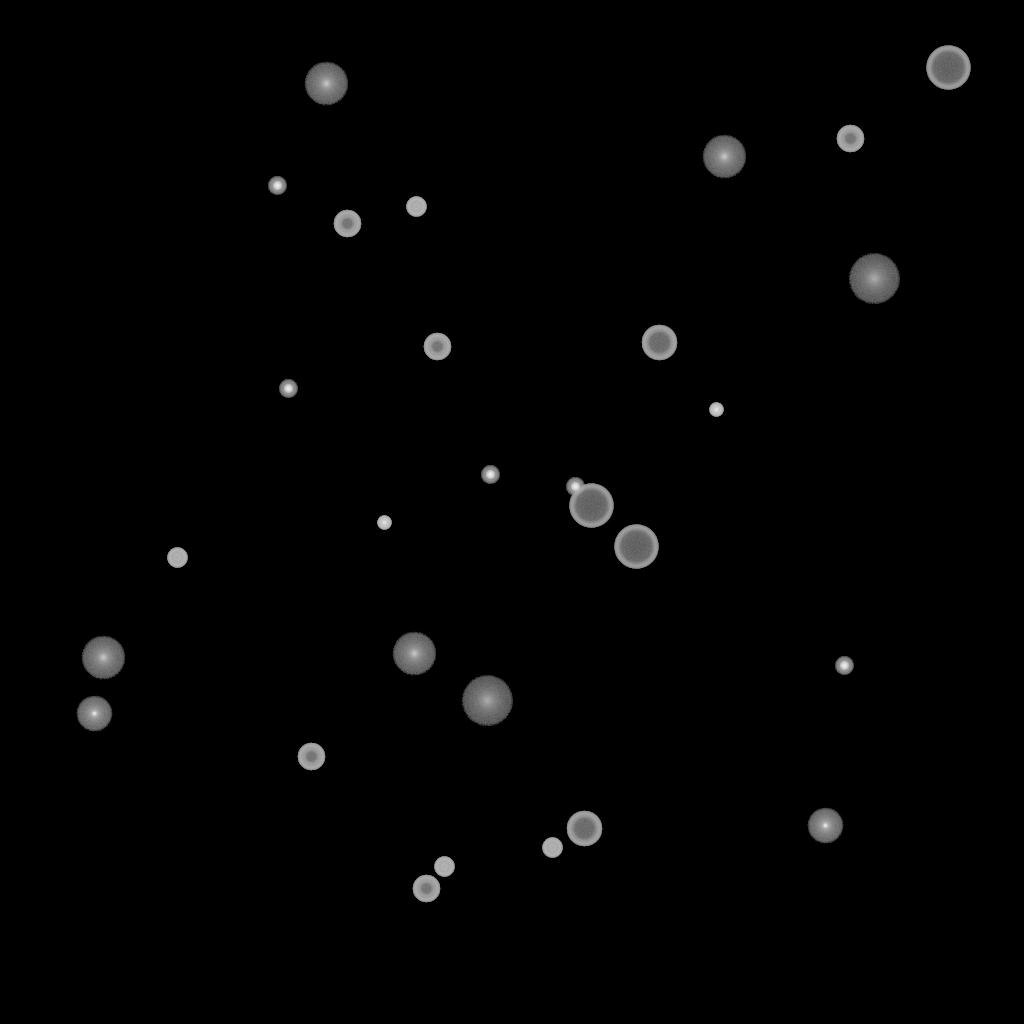depth:-20: (481, 466, 499, 484), (268, 177, 286, 195), (835, 657, 853, 675), (566, 478, 584, 496), (279, 380, 297, 398)
depth:-30: (377, 516, 391, 530), (709, 403, 723, 417)
depth:-40: (167, 548, 187, 568), (406, 197, 426, 217), (542, 838, 562, 858), (434, 857, 454, 877)
depth:-50: (412, 875, 440, 903), (297, 743, 325, 771), (423, 333, 451, 361), (333, 210, 361, 238), (836, 125, 864, 153)
depth:-60: (566, 811, 602, 847), (641, 325, 677, 361)
depth:-70: (614, 525, 658, 569), (569, 484, 613, 528), (926, 46, 970, 90)
depth:0: (76, 696, 112, 732), (807, 808, 843, 844)
depth:10: (702, 135, 746, 179), (81, 636, 125, 680), (304, 62, 348, 106), (392, 632, 436, 676)
depth:20: (461, 676, 513, 726), (848, 254, 900, 304)
